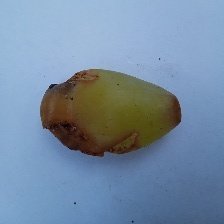grapes: (18, 34, 189, 223)
